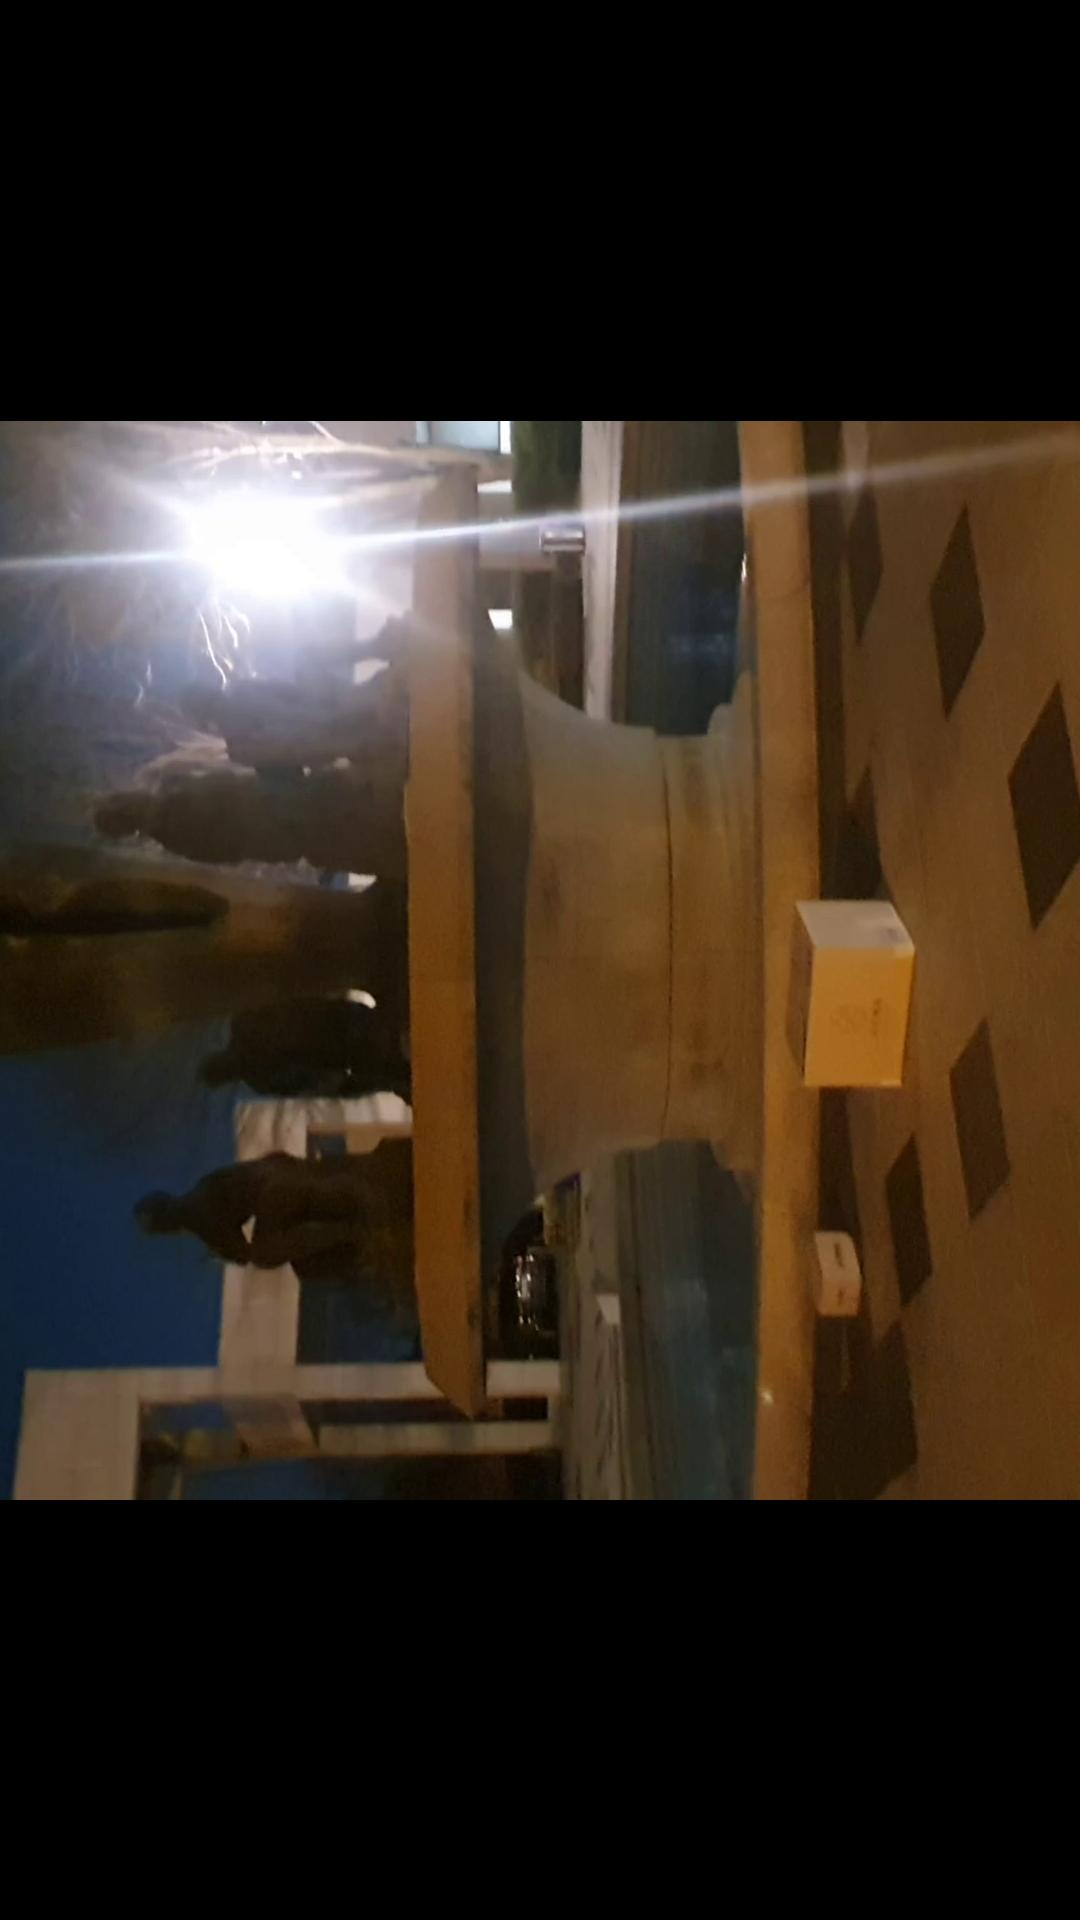Box: (781, 887, 924, 1102), (803, 1216, 872, 1317)
